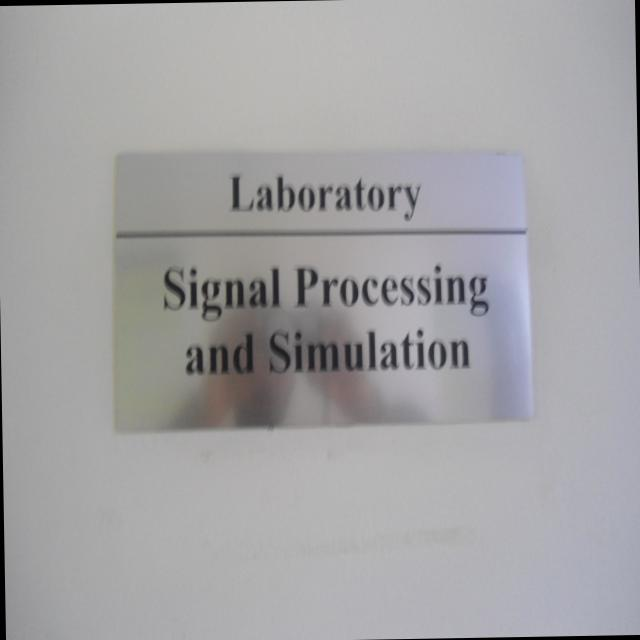sign: (106, 137, 536, 467)
